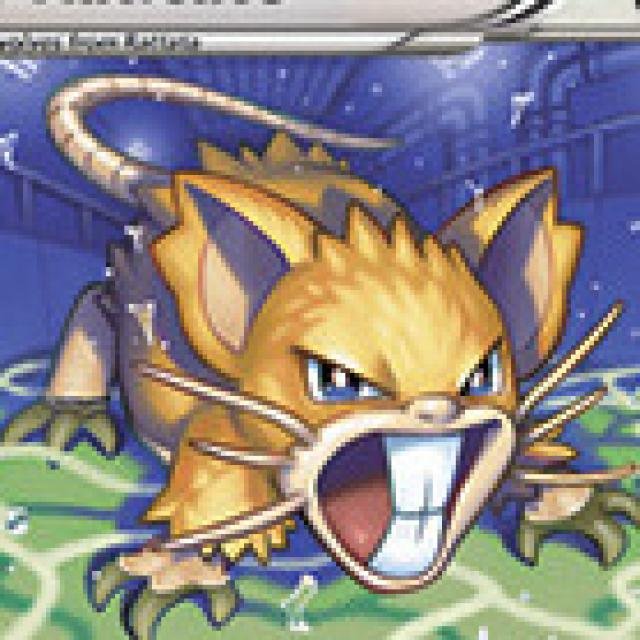Raticate: (52, 120, 609, 602)
